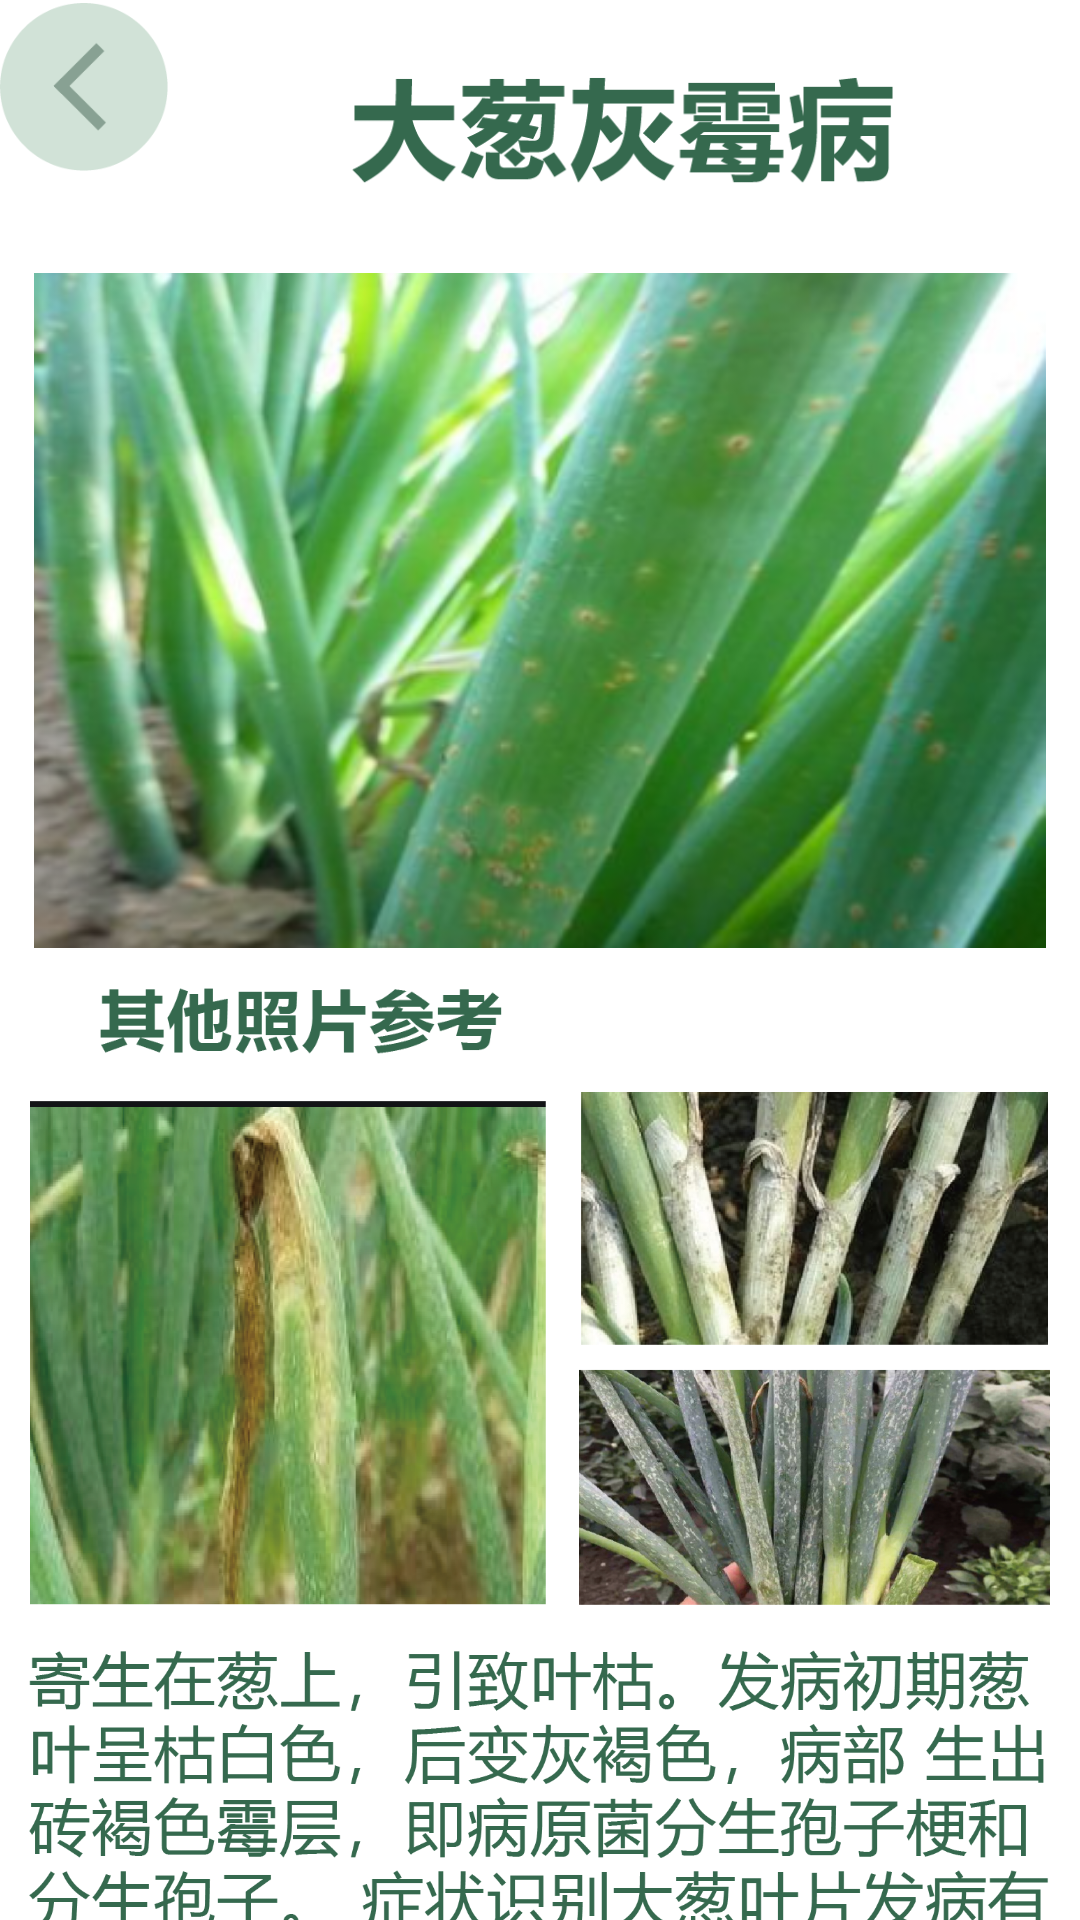

Icon click points for this 1080 × 1920 phone screenshot, format point (x, y):
back: point (84, 87)
